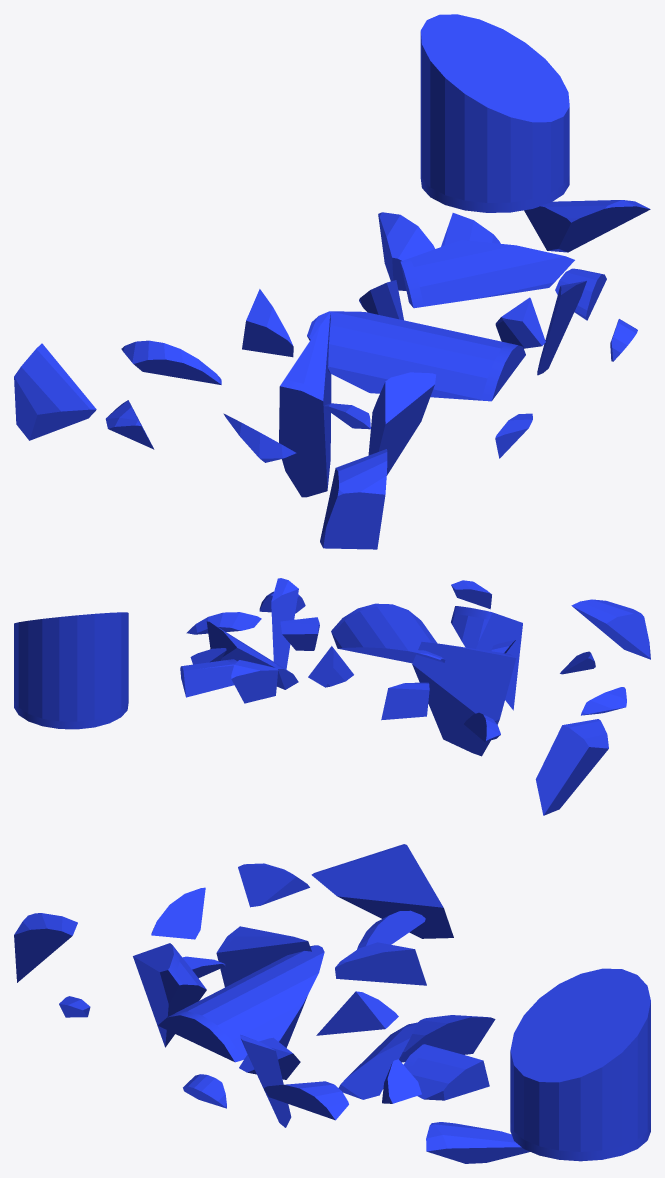
The model's file is broken.obj.
3 views of the same model, one above another, from view 1: azimuth 30°, elevation 25°; view 2: azimuth 150°, elevation 25°; view 3: azimuth 270°, elevation 25° (orthographic). The views are drawn at different scales.
Parts seen in each view (by area): view 1: polySurface1_Fracture_Chunk_0560, Fracture_Chunk_0560_polySurface5, Fracture_Chunk_0560_polySurface16, Fracture_Chunk_0560_polySurface15, Fracture_Chunk_0560_polySurface10, Fracture_Chunk_0560_polySurface8, Fracture_Chunk_0560_polySurface6, Fracture_Chunk_0560_polySurface18, Fracture_Chunk_0560_polySurface22, Fracture_Chunk_0560_polySurface3, Fracture_Chunk_0560_polySurface12, Fracture_Chunk_0560_polySurface20 (+8 smaller); view 2: polySurface1_Fracture_Chunk_0560, Fracture_Chunk_0560_polySurface15, Fracture_Chunk_0560_polySurface5, Fracture_Chunk_0560_polySurface8, Fracture_Chunk_0560_polySurface18, Fracture_Chunk_0560_polySurface10, Fracture_Chunk_0560_polySurface20, Fracture_Chunk_0560_polySurface16, Fracture_Chunk_0560_polySurface3, Fracture_Chunk_0560_polySurface23, Fracture_Chunk_0560_polySurface12, Fracture_Chunk_0560_polySurface14 (+7 smaller); view 3: polySurface1_Fracture_Chunk_0560, Fracture_Chunk_0560_polySurface5, Fracture_Chunk_0560_polySurface8, Fracture_Chunk_0560_polySurface18, Fracture_Chunk_0560_polySurface15, Fracture_Chunk_0560_polySurface23, Fracture_Chunk_0560_polySurface6, Fracture_Chunk_0560_polySurface12, Fracture_Chunk_0560_polySurface3, Fracture_Chunk_0560_polySurface10, Fracture_Chunk_0560_polySurface16, Fracture_Chunk_0560_polySurface13 (+10 smaller).
Boxes of the visible parts, <box> form: polySurface1_Fracture_Chunk_0560: <box>420,14,569,212</box>; Fracture_Chunk_0560_polySurface5: <box>307,311,525,401</box>; Fracture_Chunk_0560_polySurface16: <box>400,240,574,308</box>; Fracture_Chunk_0560_polySurface15: <box>279,312,331,497</box>; Fracture_Chunk_0560_polySurface10: <box>320,449,387,549</box>; Fracture_Chunk_0560_polySurface8: <box>14,343,96,440</box>; Fracture_Chunk_0560_polySurface6: <box>524,200,650,252</box>; Fracture_Chunk_0560_polySurface18: <box>368,372,435,475</box>; Fracture_Chunk_0560_polySurface22: <box>121,340,221,384</box>; Fracture_Chunk_0560_polySurface3: <box>378,212,434,290</box>; Fracture_Chunk_0560_polySurface12: <box>242,289,293,357</box>; Fracture_Chunk_0560_polySurface20: <box>537,280,586,375</box>; polySurface1_Fracture_Chunk_0560: <box>14,612,128,729</box>; Fracture_Chunk_0560_polySurface15: <box>412,642,516,756</box>; Fracture_Chunk_0560_polySurface5: <box>331,603,445,663</box>; Fracture_Chunk_0560_polySurface8: <box>535,719,608,815</box>; Fracture_Chunk_0560_polySurface18: <box>451,606,522,710</box>; Fracture_Chunk_0560_polySurface10: <box>571,599,650,659</box>; Fracture_Chunk_0560_polySurface20: <box>271,578,298,669</box>; Fracture_Chunk_0560_polySurface16: <box>206,621,298,689</box>; Fracture_Chunk_0560_polySurface3: <box>231,660,278,703</box>; Fracture_Chunk_0560_polySurface23: <box>180,659,237,697</box>; Fracture_Chunk_0560_polySurface12: <box>381,682,429,720</box>; Fracture_Chunk_0560_polySurface14: <box>280,617,319,650</box>; polySurface1_Fracture_Chunk_0560: <box>510,968,650,1161</box>; Fracture_Chunk_0560_polySurface5: <box>158,945,324,1062</box>; Fracture_Chunk_0560_polySurface8: <box>311,844,453,938</box>; Fracture_Chunk_0560_polySurface18: <box>133,943,206,1047</box>; Fracture_Chunk_0560_polySurface15: <box>216,926,311,1047</box>; Fracture_Chunk_0560_polySurface23: <box>403,1044,489,1100</box>; Fracture_Chunk_0560_polySurface6: <box>426,1122,529,1163</box>; Fracture_Chunk_0560_polySurface12: <box>335,942,426,985</box>; Fracture_Chunk_0560_polySurface3: <box>399,1015,495,1062</box>; Fracture_Chunk_0560_polySurface10: <box>14,913,77,982</box>; Fracture_Chunk_0560_polySurface16: <box>338,1022,417,1099</box>; Fracture_Chunk_0560_polySurface13: <box>316,991,398,1035</box>.
Bounding box in the file's own units: 64.38 × 23.68 × 58.11.
1 material, 1 textured.
